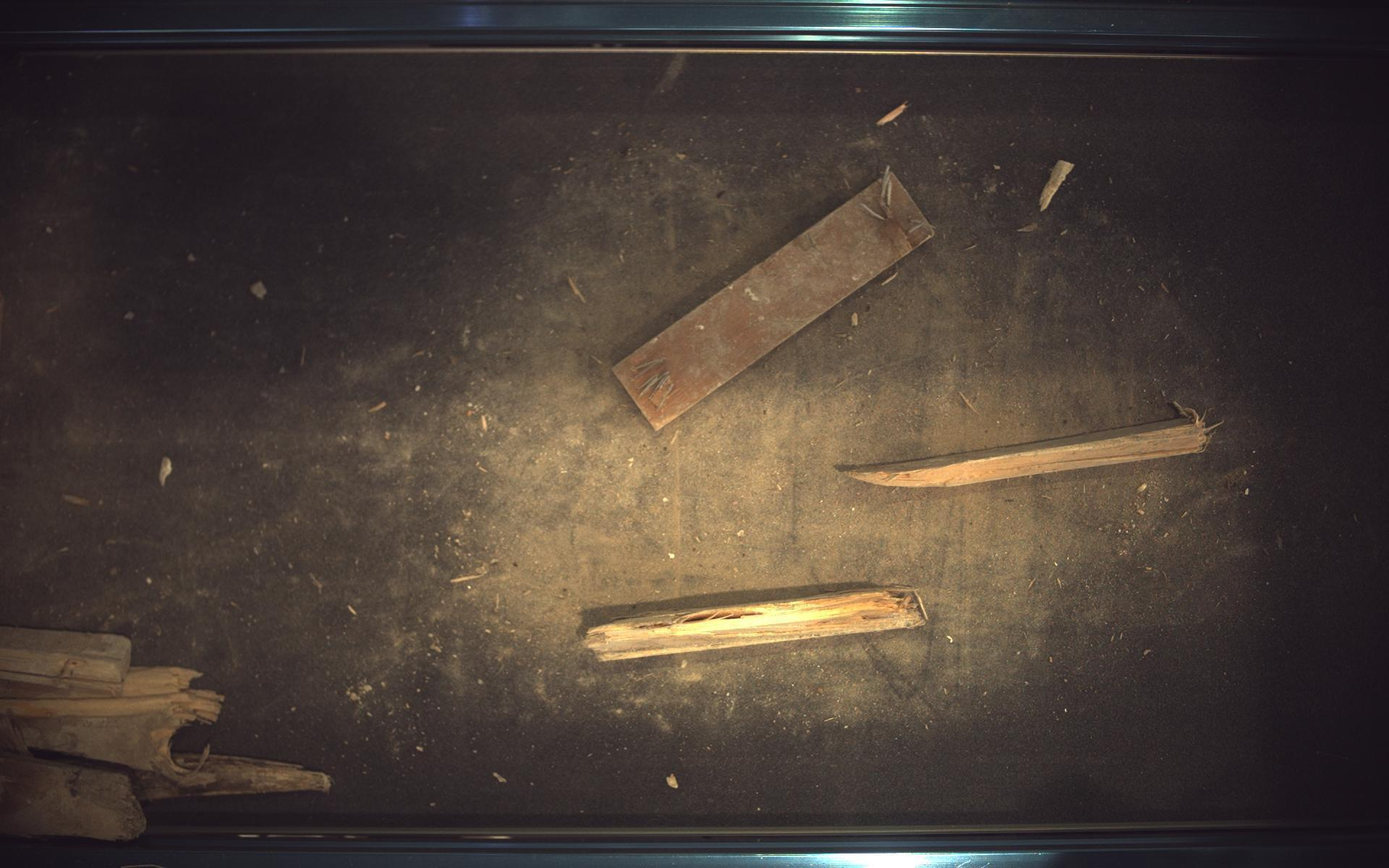wood: (614, 166, 935, 430), (843, 401, 1223, 488), (585, 589, 929, 662)
